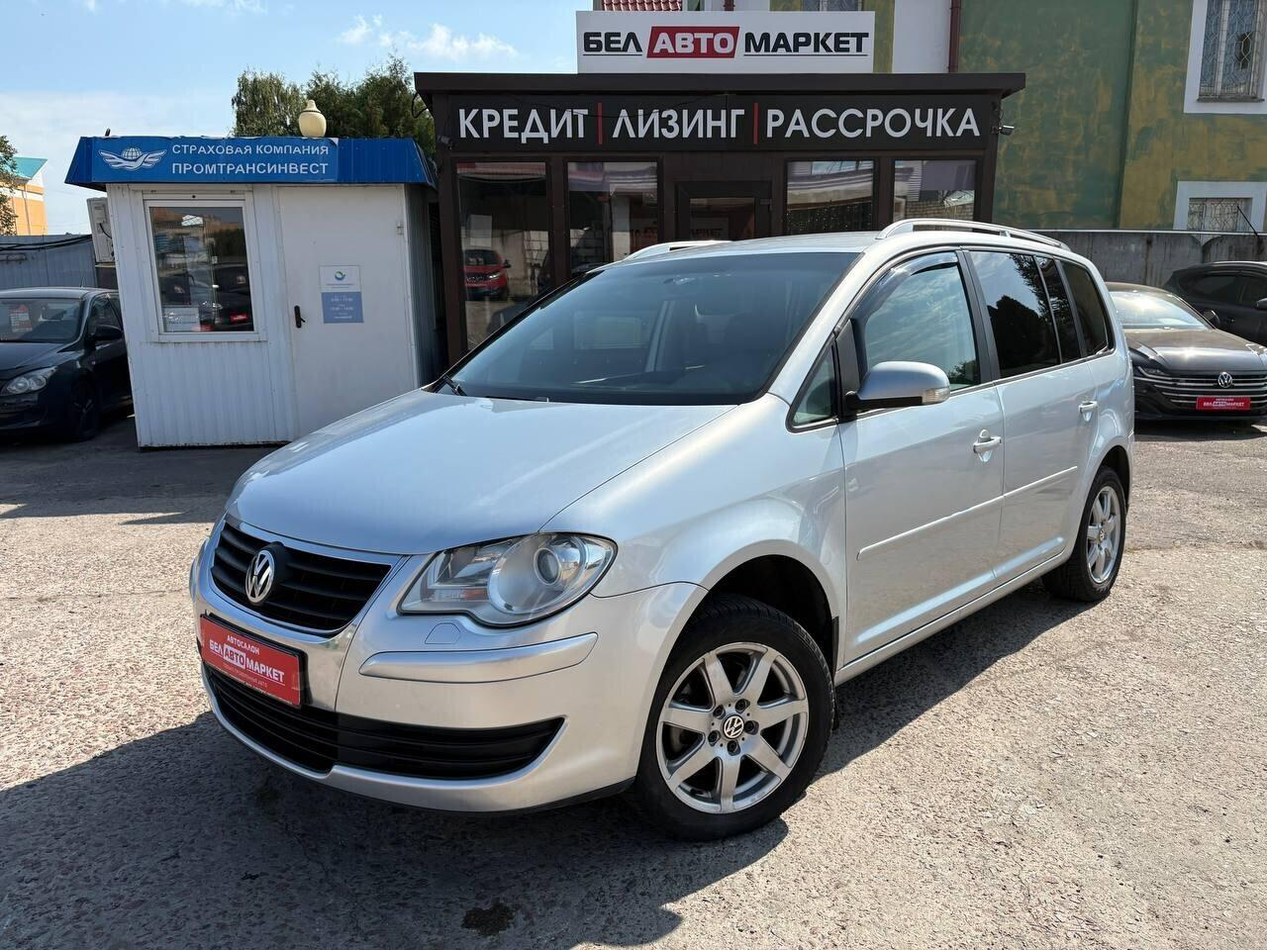Touran_2006-2010: (186, 225, 1137, 834)
